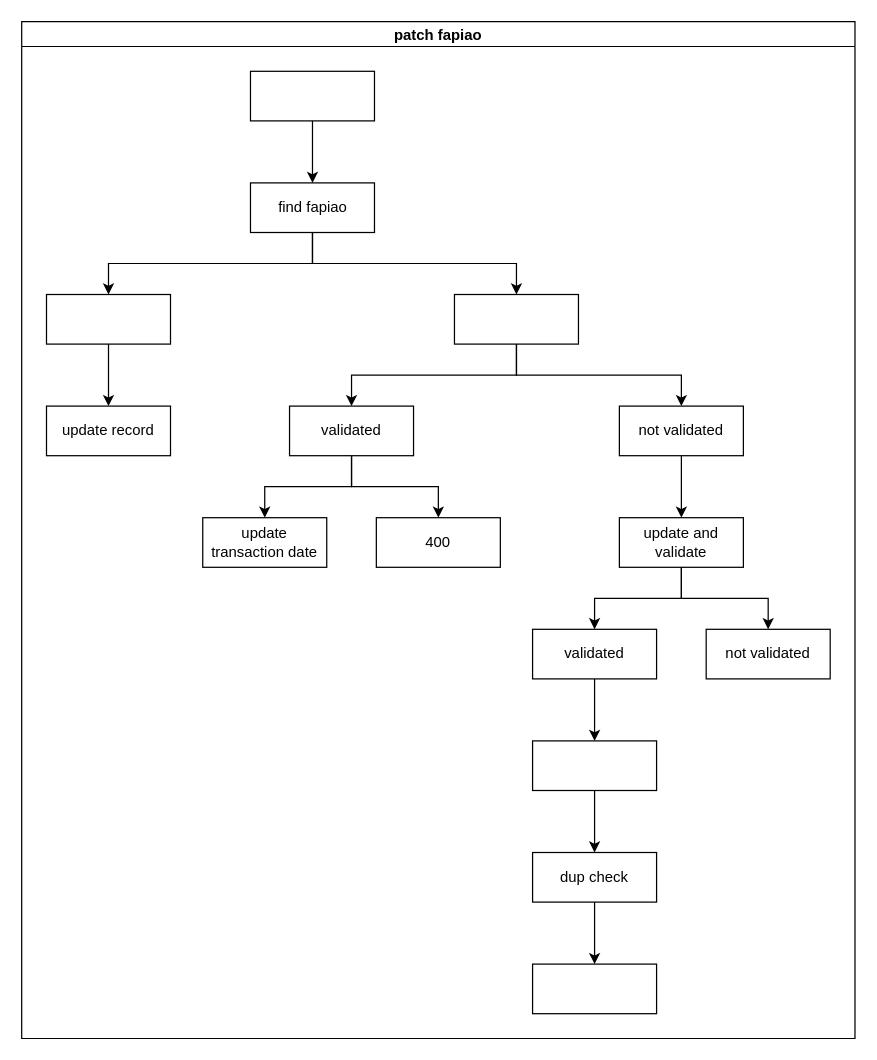
Image size: 877x1060. Some labels were removed from this diagram. Each missing label, with the centre of its shape:
generate image for qrcode: [594,765]
http request: [311,95]
require validation: [515,318]
same day job: [594,988]
skip validate(not vat or pending validation): [107,318]
